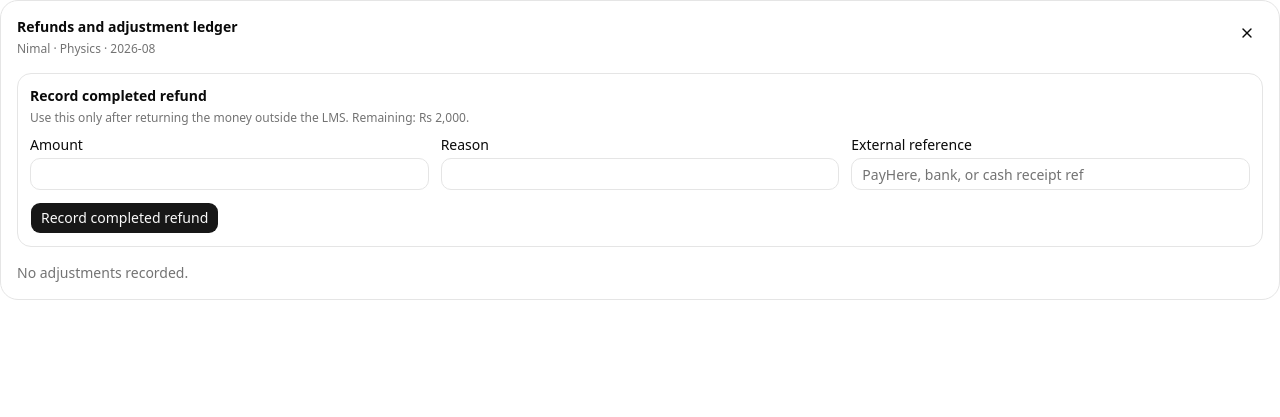
Scenario: PaymentAdjustmentPanel › records an externally completed refund with proof and an idempotency key
Expected: the text "No adjustments recorded." is shown, [17,263,188,282]
Type "500" into the number field named "Refund amount" at (229, 174), box [30,158,429,190]
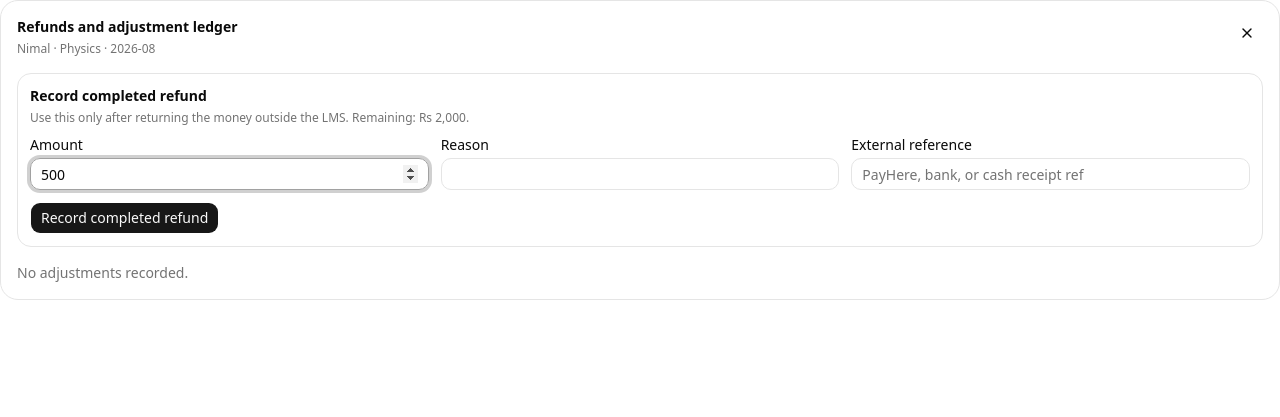
Type "Duplicate collection" into the field named "Refund reason" at (640, 174), box [441,158,839,190]
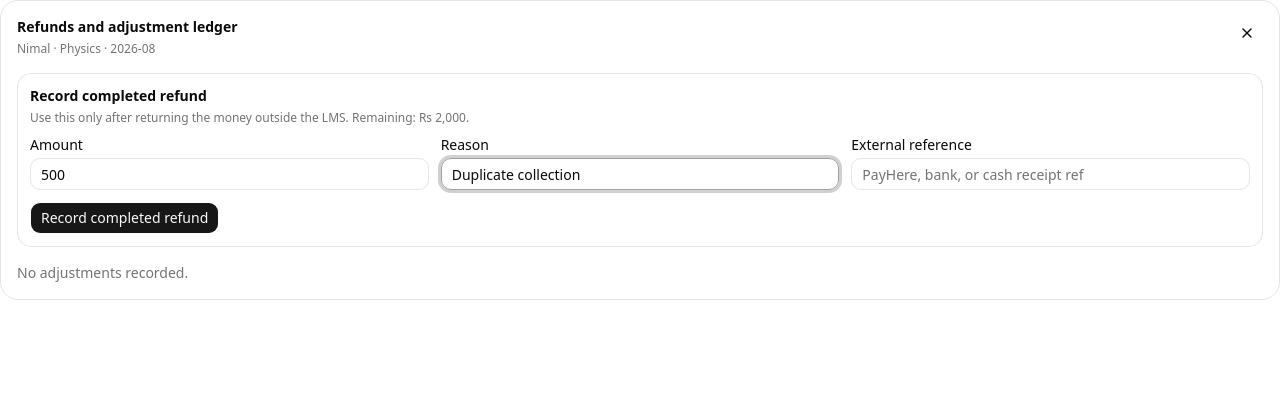
Type "PAYHERE-REF-1" into the field named "Refund external reference" at (1051, 174), box [851,158,1250,190]
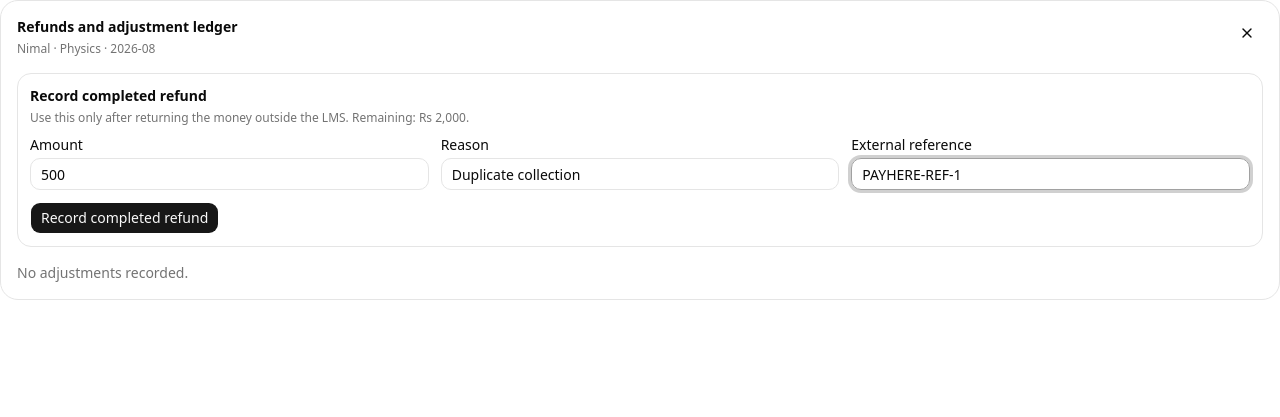
Click the button "Record completed refund" at (125, 218), box [30,202,219,234]
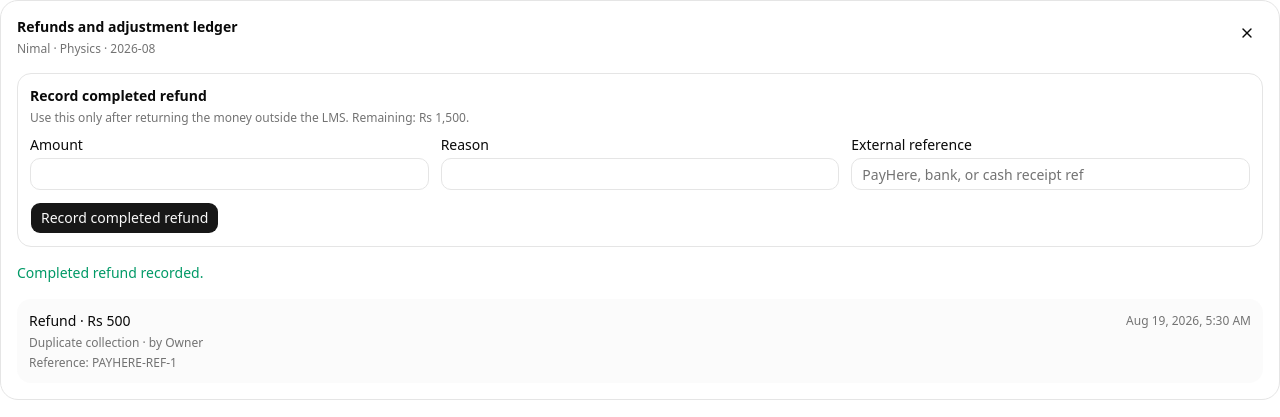
Result: the text "Completed refund recorded." is shown at [17,263,204,282]
